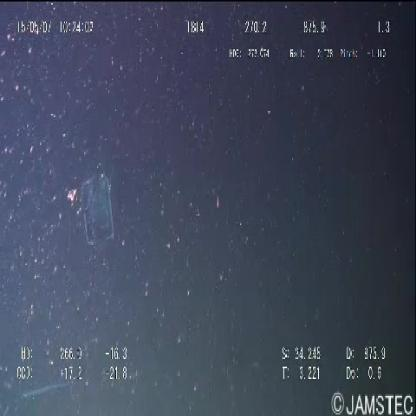Rác: (75, 163, 119, 253)
